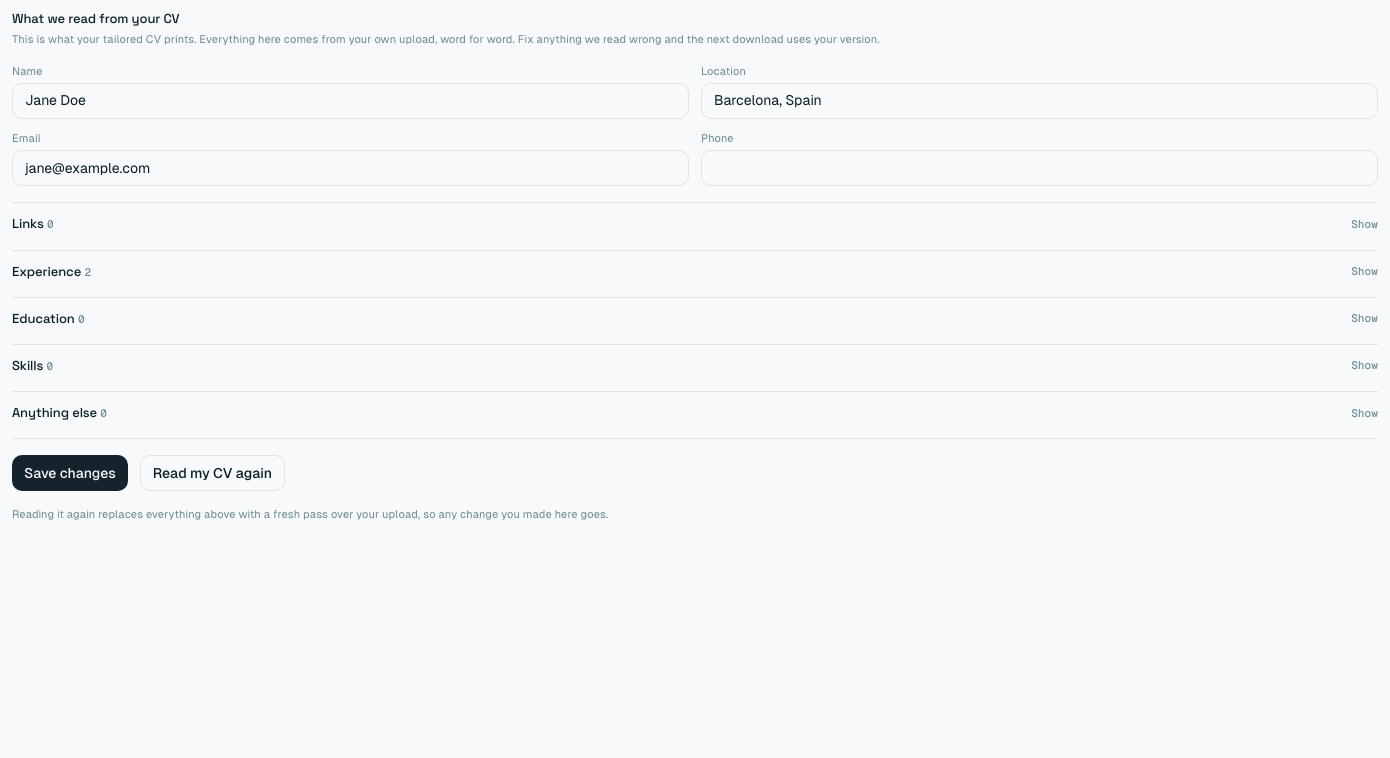
Scenario: CvEditor — order and grouping › the ends of the list have nowhere to go, so those controls are off
Click the button "Experience 2 Show".
click(47, 271)  # box [12,262,1378,281]
(page scrolled)
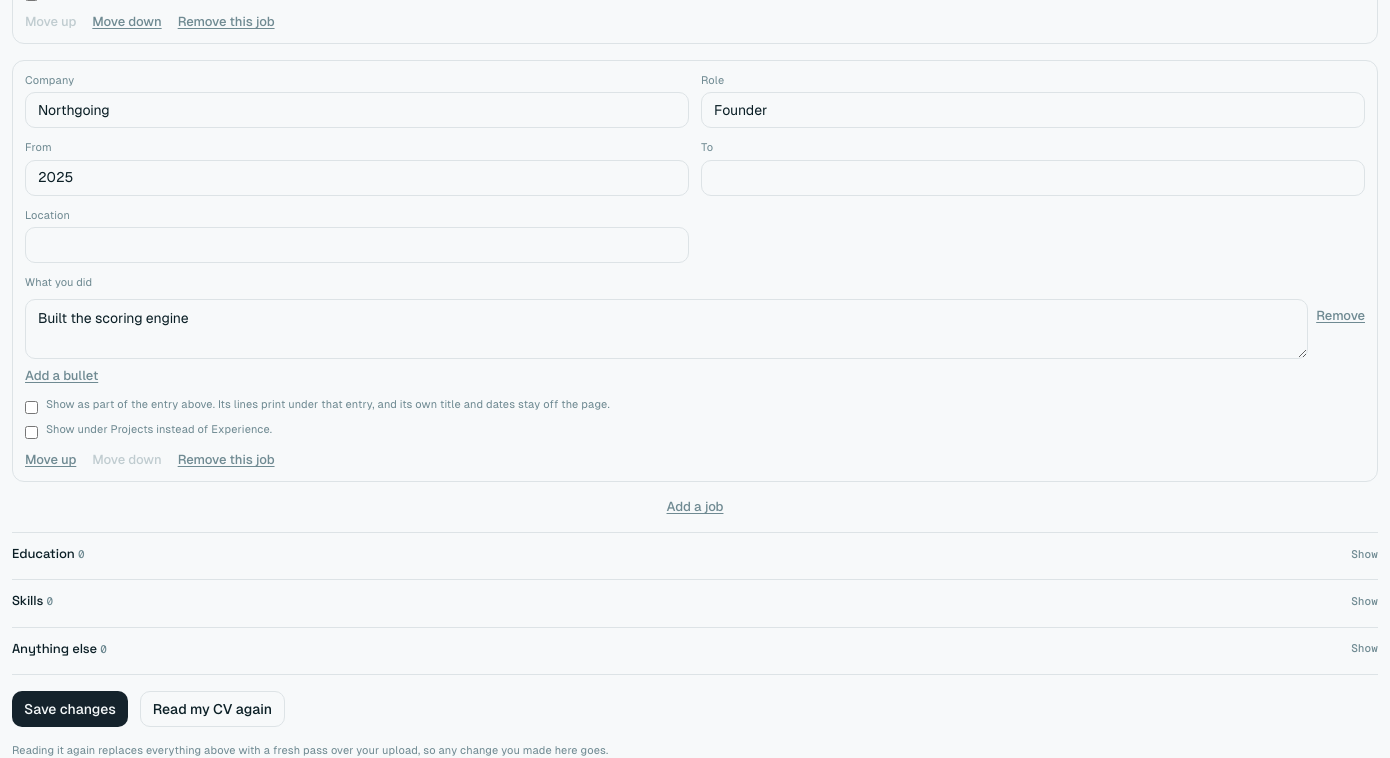
Now the button with aria-label "Move Acme Corp up" is disabled, box [25,13,76,31]
Now the button with aria-label "Move Northgoing down" is disabled, box [92,451,162,469]
Now the button with aria-label "Move Acme Corp down" is enabled, box [92,13,162,31]
